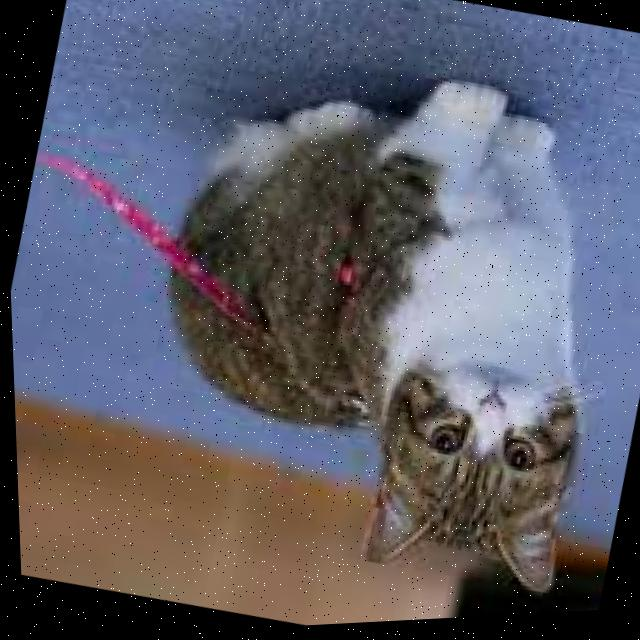Munchkin: (96, 6, 640, 626)
